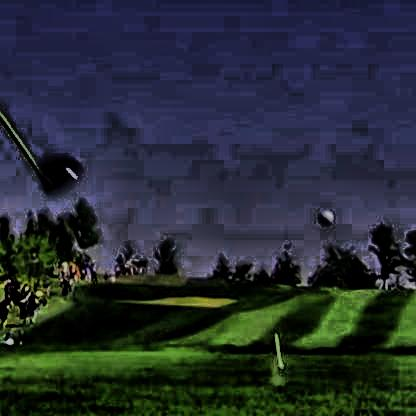golfball: (314, 206, 330, 225)
